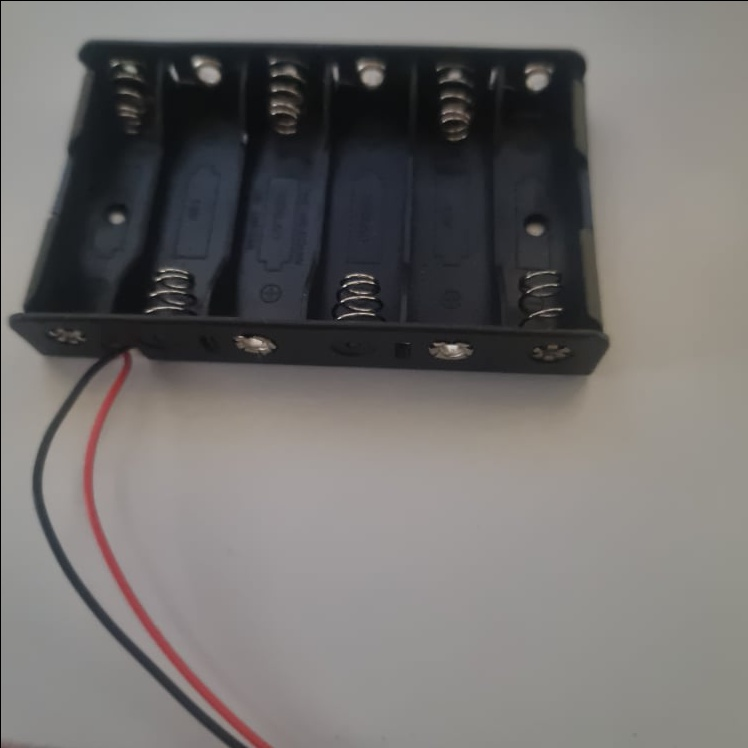BATTERY BOX: (8, 35, 612, 376)
